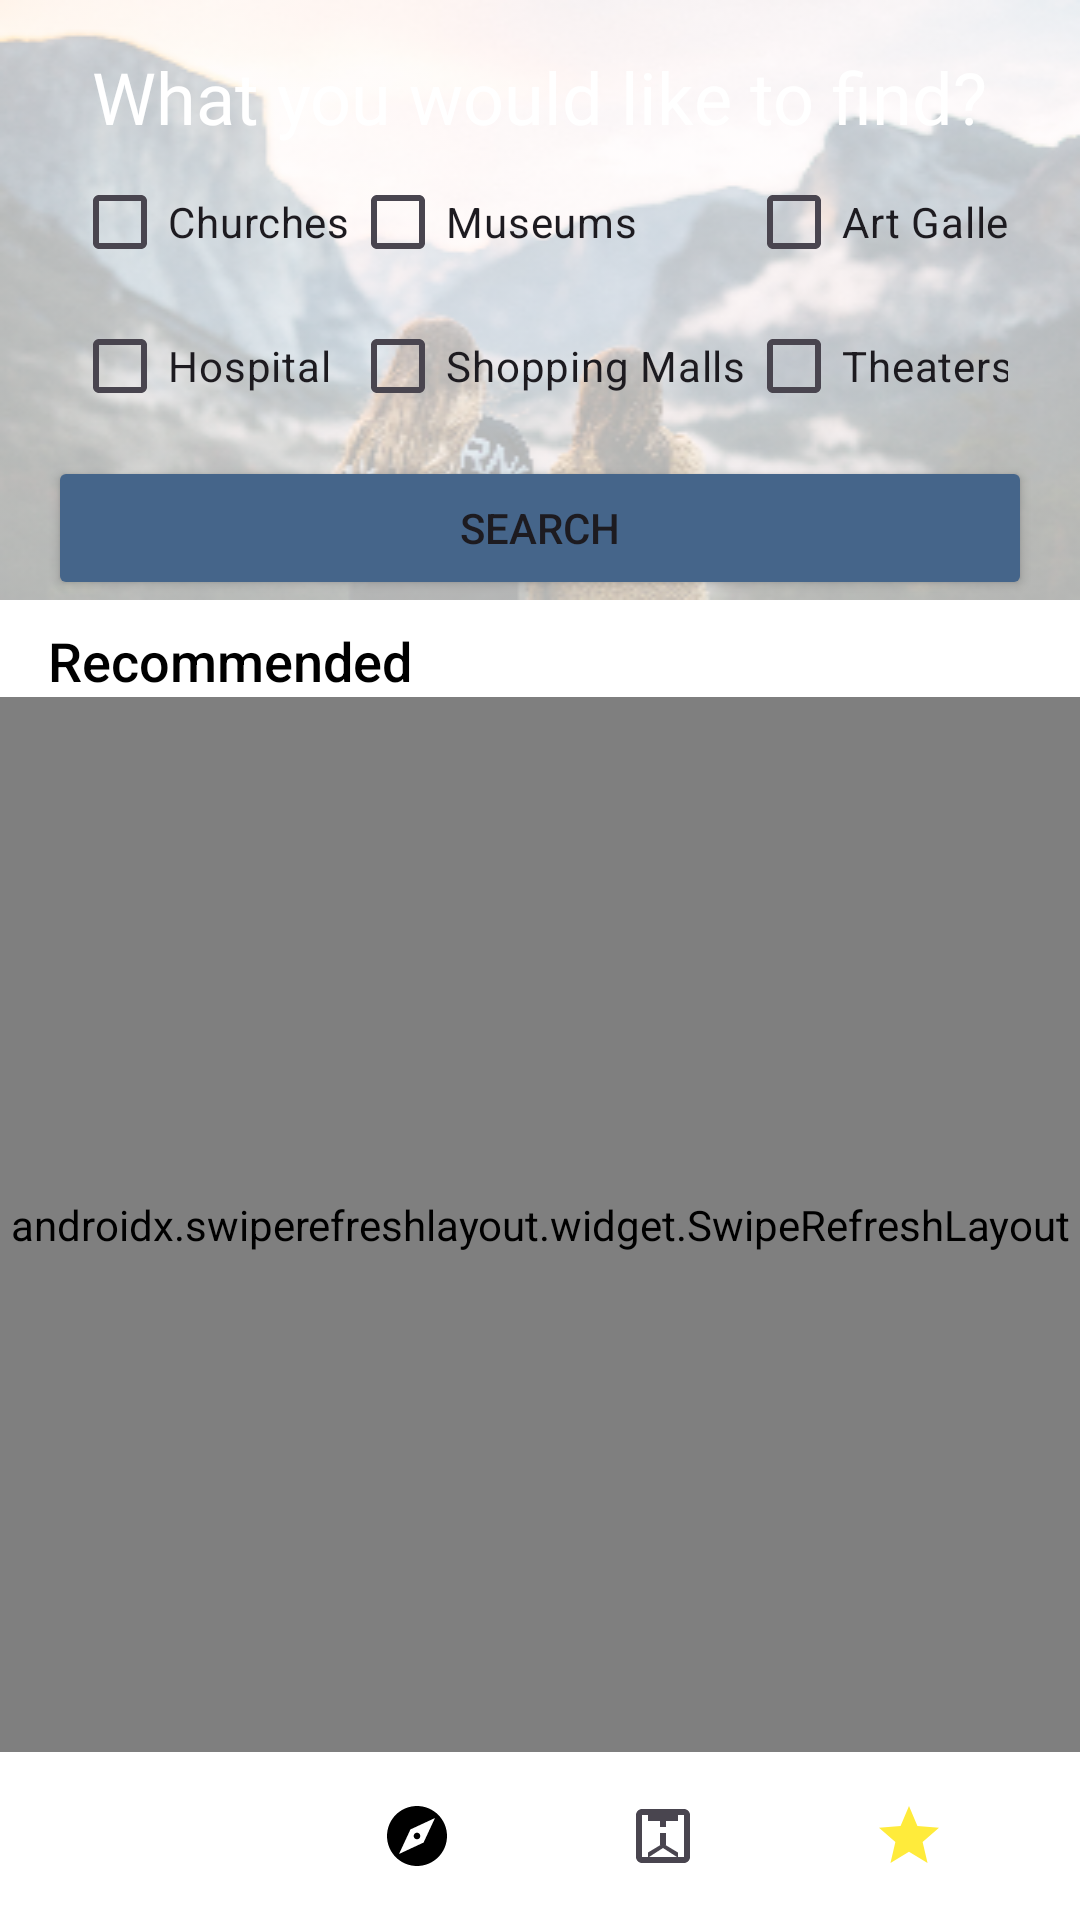

Screen size 1080*1920. Icon name, then its box in pixels as (x1, y1, x2, y2):
Discover: (387, 1806, 447, 1866)
Favorites: (879, 1806, 939, 1863)
